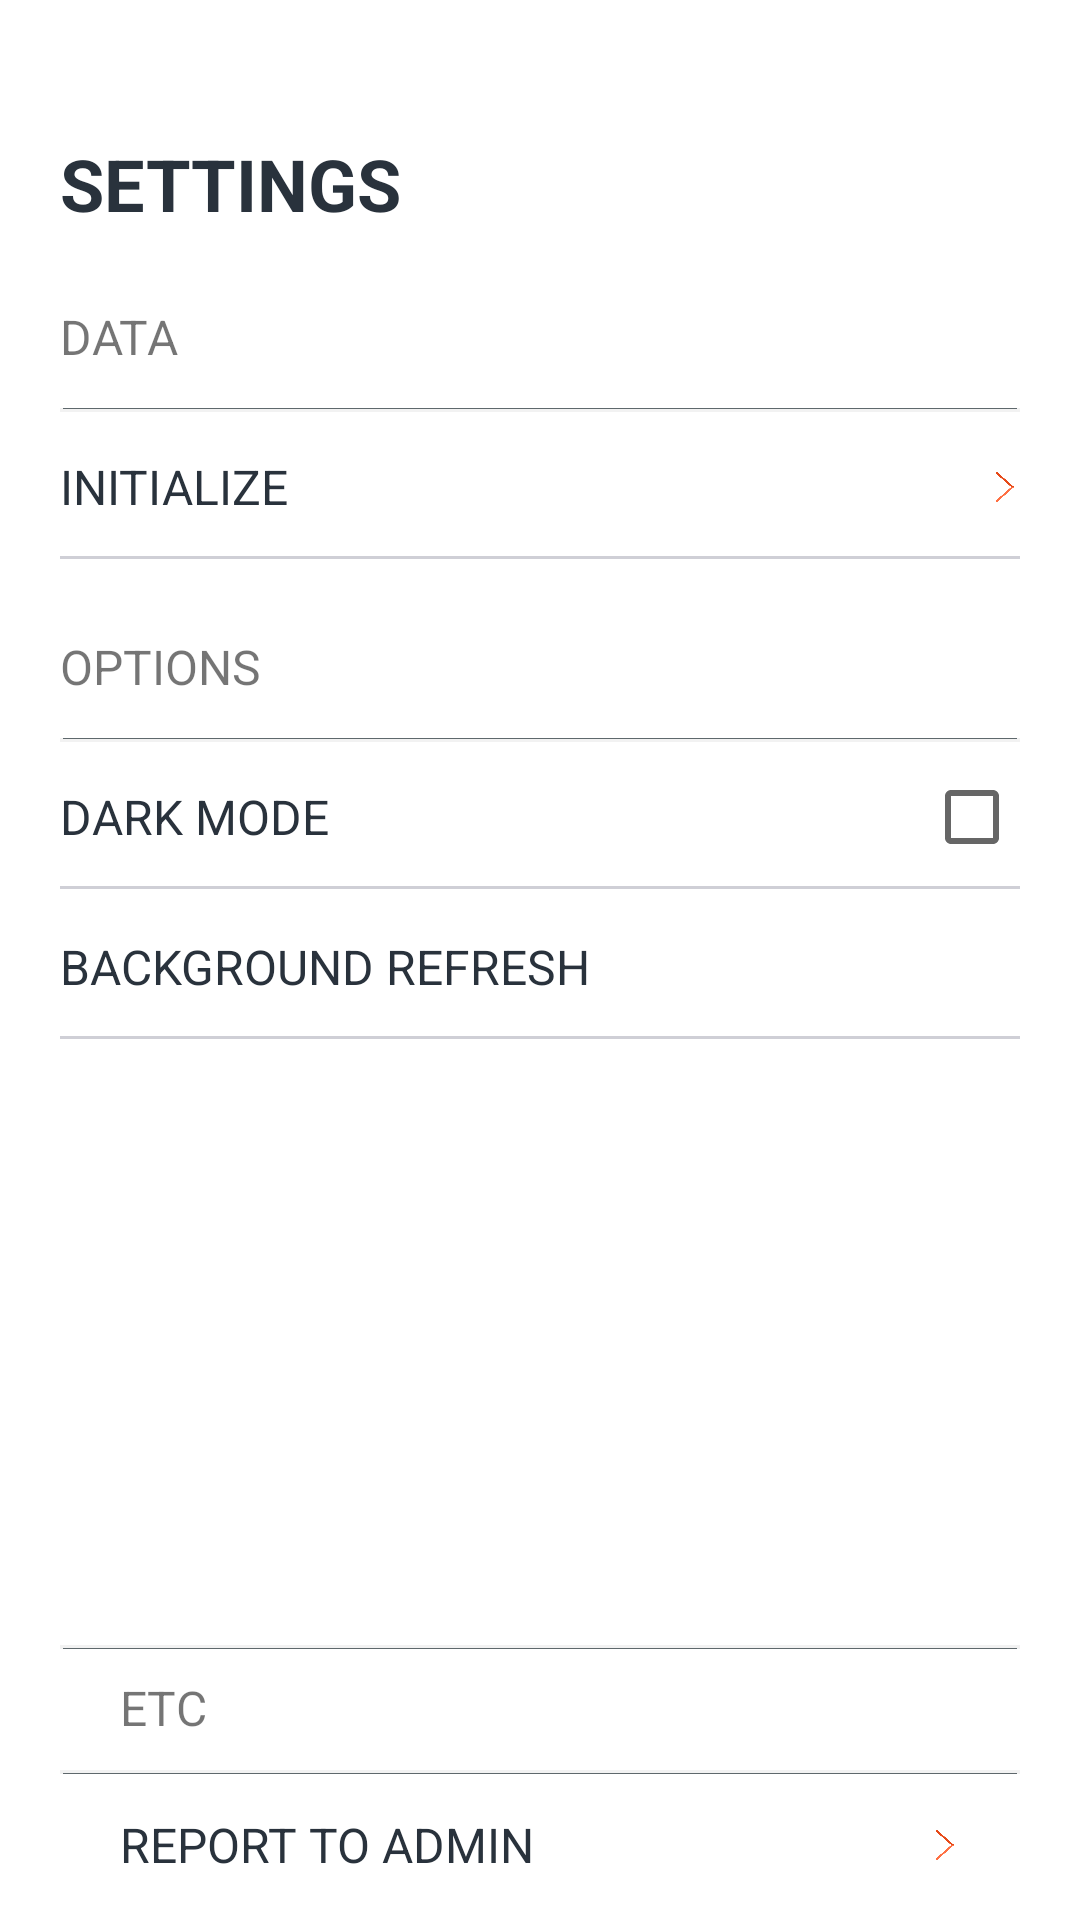

Icons on this 1080px x 1920px Android screen, each with the point to tap as (x=x, y=y):
arrow: (x=1005, y=487), (x=945, y=1845)
